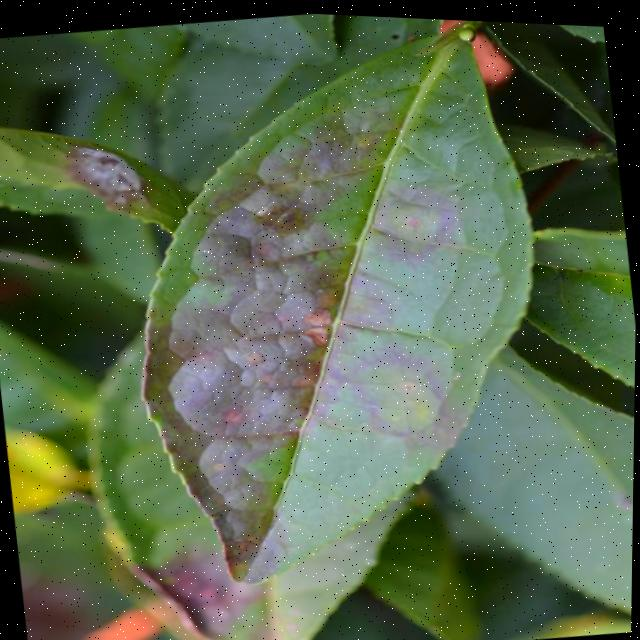Tea exobasidium blight: (136, 110, 430, 539), (129, 546, 232, 640), (66, 125, 161, 215)
